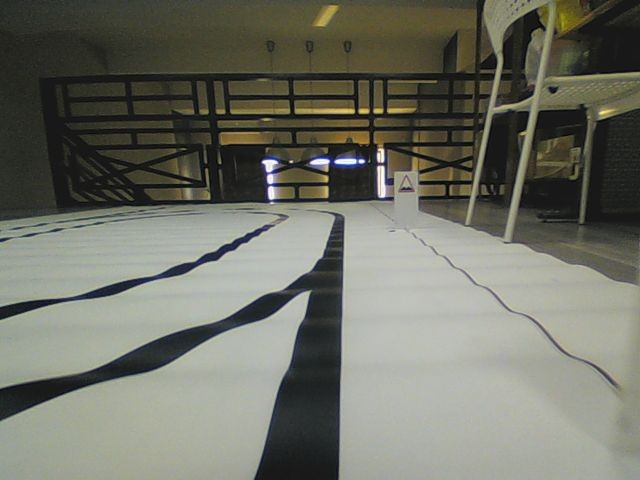Nerov: (396, 173, 415, 194)
